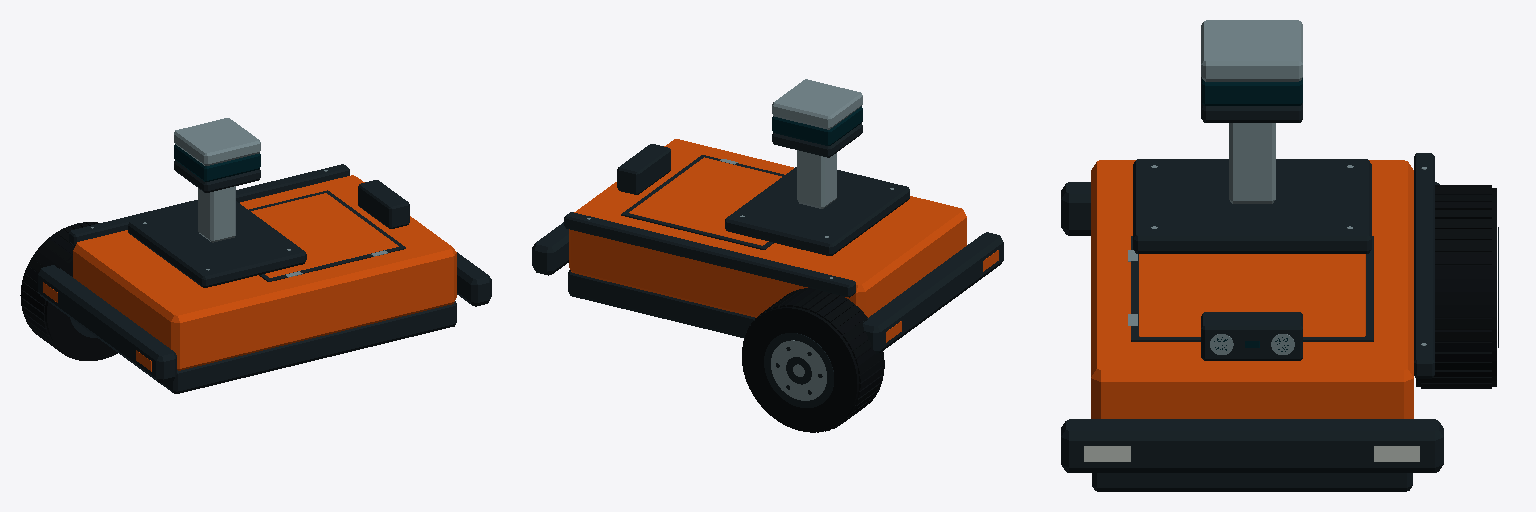
URDF robot description (mineguard):
<?xml version='1.0' encoding='utf-8'?>
<robot name="mineguard">
  <material name="amber">
    <color rgba="0.93 .48 .06 1" />
  </material>
  <material name="graphite">
    <color rgba=".10 .13 .16 1" />
  </material>
  <material name="silver">
    <color rgba=".55 .58 .6 1" />
  </material>
  <link name="base_footprint" />
  <joint name="footprint_fixed" type="fixed">
    <parent link="base_footprint" />
    <child link="base_link" />
    <origin xyz="0 0 .18" />
  </joint>
  <link name="base_link">
    <inertial>
      <origin xyz="0 0 0" />
      <mass value="20" />
      <inertia ixx="0.283333" ixy="0" ixz="0" iyy="0.642667" iyz="0" izz="0.840667" />
    </inertial>
    <visual>
      <origin xyz="0 0 0" rpy="0 0 0" />
      <geometry>
        <mesh filename="package://mineguard_robot/meshes/base_link.dae" />
      </geometry>
    </visual>
    <collision name="base_link_collision">
      <origin xyz="0 0 0" />
      <geometry>
        <box size="0.6 0.38 0.16" />
      </geometry>
    </collision>
  </link>
  <link name="front_left_wheel">
    <inertial>
      <mass value="1.5" />
      <inertia ixx="0.00665" ixy="0" ixz="0" iyy="0.0108" iyz="0" izz="0.00665" />
    </inertial>
    <visual>
      <origin xyz="0 0 0" rpy="0 0 0" />
      <geometry>
        <mesh filename="package://mineguard_robot/meshes/front_left_wheel.dae" />
      </geometry>
    </visual>
    <collision name="front_left_wheel_collision">
      <origin rpy="1.57079632679 0 0" />
      <geometry>
        <cylinder radius=".12" length=".10" />
      </geometry>
    </collision>
  </link>
  <joint name="front_left_wheel_joint" type="continuous">
    <parent link="base_link" />
    <child link="front_left_wheel" />
    <origin xyz="0.23 0.24 -.06" />
    <axis xyz="0 1 0" />
    <limit effort="12" velocity="12" />
    <dynamics damping="0" friction="0" />
  </joint>
  <gazebo reference="front_left_wheel">
    <mu1>0.8</mu1>
    <mu2>0.8</mu2>
    <kp>500000</kp>
    <kd>20</kd>
    <minDepth>0.001</minDepth>
    <maxVel>0.1</maxVel>
  </gazebo>
  <link name="front_right_wheel">
    <inertial>
      <mass value="1.5" />
      <inertia ixx="0.00665" ixy="0" ixz="0" iyy="0.0108" iyz="0" izz="0.00665" />
    </inertial>
    <visual>
      <origin xyz="0 0 0" rpy="0 0 0" />
      <geometry>
        <mesh filename="package://mineguard_robot/meshes/front_right_wheel.dae" />
      </geometry>
    </visual>
    <collision name="front_right_wheel_collision">
      <origin rpy="1.57079632679 0 0" />
      <geometry>
        <cylinder radius=".12" length=".10" />
      </geometry>
    </collision>
  </link>
  <joint name="front_right_wheel_joint" type="continuous">
    <parent link="base_link" />
    <child link="front_right_wheel" />
    <origin xyz="0.23 -0.24 -.06" />
    <axis xyz="0 1 0" />
    <limit effort="12" velocity="12" />
    <dynamics damping="0" friction="0" />
  </joint>
  <gazebo reference="front_right_wheel">
    <mu1>0.8</mu1>
    <mu2>0.8</mu2>
    <kp>500000</kp>
    <kd>20</kd>
    <minDepth>0.001</minDepth>
    <maxVel>0.1</maxVel>
  </gazebo>
  <link name="rear_left_wheel">
    <inertial>
      <mass value="1.5" />
      <inertia ixx="0.00665" ixy="0" ixz="0" iyy="0.0108" iyz="0" izz="0.00665" />
    </inertial>
    <visual>
      <origin xyz="0 0 0" rpy="0 0 0" />
      <geometry>
        <mesh filename="package://mineguard_robot/meshes/rear_left_wheel.dae" />
      </geometry>
    </visual>
    <collision name="rear_left_wheel_collision">
      <origin rpy="1.57079632679 0 0" />
      <geometry>
        <cylinder radius=".12" length=".10" />
      </geometry>
    </collision>
  </link>
  <joint name="rear_left_wheel_joint" type="continuous">
    <parent link="base_link" />
    <child link="rear_left_wheel" />
    <origin xyz="-0.23 0.24 -.06" />
    <axis xyz="0 1 0" />
    <limit effort="12" velocity="12" />
    <dynamics damping="0" friction="0" />
  </joint>
  <gazebo reference="rear_left_wheel">
    <mu1>0.8</mu1>
    <mu2>0.8</mu2>
    <kp>500000</kp>
    <kd>20</kd>
    <minDepth>0.001</minDepth>
    <maxVel>0.1</maxVel>
  </gazebo>
  <link name="rear_right_wheel">
    <inertial>
      <mass value="1.5" />
      <inertia ixx="0.00665" ixy="0" ixz="0" iyy="0.0108" iyz="0" izz="0.00665" />
    </inertial>
    <visual>
      <origin xyz="0 0 0" rpy="0 0 0" />
      <geometry>
        <mesh filename="package://mineguard_robot/meshes/rear_right_wheel.dae" />
      </geometry>
    </visual>
    <collision name="rear_right_wheel_collision">
      <origin rpy="1.57079632679 0 0" />
      <geometry>
        <cylinder radius=".12" length=".10" />
      </geometry>
    </collision>
  </link>
  <joint name="rear_right_wheel_joint" type="continuous">
    <parent link="base_link" />
    <child link="rear_right_wheel" />
    <origin xyz="-0.23 -0.24 -.06" />
    <axis xyz="0 1 0" />
    <limit effort="12" velocity="12" />
    <dynamics damping="0" friction="0" />
  </joint>
  <gazebo reference="rear_right_wheel">
    <mu1>0.8</mu1>
    <mu2>0.8</mu2>
    <kp>500000</kp>
    <kd>20</kd>
    <minDepth>0.001</minDepth>
    <maxVel>0.1</maxVel>
  </gazebo>
  <link name="sensor_deck">
    <inertial>
      <origin xyz="0 0 0" />
      <mass value="0.8" />
      <inertia ixx="0.00526833" ixy="0" ixz="0" iyy="0.00326833" iyz="0" izz="0.00845333" />
    </inertial>
    <visual>
      <origin xyz="0 0 0" rpy="0 0 0" />
      <geometry>
        <mesh filename="package://mineguard_robot/meshes/sensor_deck.dae" />
      </geometry>
    </visual>
    <collision name="sensor_deck_collision">
      <origin xyz="0 0 0" />
      <geometry>
        <box size="0.22 0.28 0.025" />
      </geometry>
    </collision>
  </link>
  <joint name="sensor_deck_fixed" type="fixed">
    <parent link="base_link" />
    <child link="sensor_deck" />
    <origin xyz="-0.1 0 0.105" />
  </joint>
  <link name="lidar_pedestal">
    <inertial>
      <origin xyz="0 0 0" />
      <mass value="0.4" />
      <inertia ixx="0.000580833" ixy="0" ixz="0" iyy="0.000580833" iyz="0" izz="0.000201667" />
    </inertial>
    <visual>
      <origin xyz="0 0 0" rpy="0 0 0" />
      <geometry>
        <mesh filename="package://mineguard_robot/meshes/lidar_pedestal.dae" />
      </geometry>
    </visual>
    <collision name="lidar_pedestal_collision">
      <origin xyz="0 0 0" />
      <geometry>
        <box size="0.055 0.055 0.12" />
      </geometry>
    </collision>
  </link>
  <joint name="lidar_pedestal_fixed" type="fixed">
    <parent link="base_link" />
    <child link="lidar_pedestal" />
    <origin xyz="-0.1 0 0.18" />
  </joint>
  <link name="lidar">
    <inertial>
      <origin xyz="0 0 0" />
      <mass value="0.6" />
      <inertia ixx="0.00104" ixy="0" ixz="0" iyy="0.00104" iyz="0" izz="0.00144" />
    </inertial>
    <visual>
      <origin xyz="0 0 0" rpy="0 0 0" />
      <geometry>
        <mesh filename="package://mineguard_robot/meshes/lidar.dae" />
      </geometry>
    </visual>
    <collision name="lidar_collision">
      <origin xyz="0 0 0" />
      <geometry>
        <box size="0.12 0.12 0.08" />
      </geometry>
    </collision>
  </link>
  <joint name="lidar_fixed" type="fixed">
    <parent link="base_link" />
    <child link="lidar" />
    <origin xyz="-0.1 0 0.28" />
  </joint>
  <link name="front_bumper">
    <inertial>
      <origin xyz="0 0 0" />
      <mass value="0.6" />
      <inertia ixx="0.0102763" ixy="0" ixz="0" iyy="0.0002525" iyz="0" izz="0.0102263" />
    </inertial>
    <visual>
      <origin xyz="0 0 0" rpy="0 0 0" />
      <geometry>
        <mesh filename="package://mineguard_robot/meshes/front_bumper.dae" />
      </geometry>
    </visual>
    <collision name="front_bumper_collision">
      <origin xyz="0 0 0" />
      <geometry>
        <box size="0.045 0.45 0.055" />
      </geometry>
    </collision>
  </link>
  <joint name="front_bumper_fixed" type="fixed">
    <parent link="base_link" />
    <child link="front_bumper" />
    <origin xyz="0.33 0 -0.005" />
  </joint>
  <link name="rear_bumper">
    <inertial>
      <origin xyz="0 0 0" />
      <mass value="0.6" />
      <inertia ixx="0.0102763" ixy="0" ixz="0" iyy="0.0002525" iyz="0" izz="0.0102263" />
    </inertial>
    <visual>
      <origin xyz="0 0 0" rpy="0 0 0" />
      <geometry>
        <mesh filename="package://mineguard_robot/meshes/rear_bumper.dae" />
      </geometry>
    </visual>
    <collision name="rear_bumper_collision">
      <origin xyz="0 0 0" />
      <geometry>
        <box size="0.045 0.45 0.055" />
      </geometry>
    </collision>
  </link>
  <joint name="rear_bumper_fixed" type="fixed">
    <parent link="base_link" />
    <child link="rear_bumper" />
    <origin xyz="-0.33 0 -0.005" />
  </joint>
  <link name="camera">
    <inertial>
      <origin xyz="0 0 0" />
      <mass value="0.5" />
      <inertia ixx="0.000684375" ixy="0" ixz="0" iyy="0.00016875" iyz="0" izz="0.000684375" />
    </inertial>
    <visual>
      <origin xyz="0 0 0" rpy="0 0 0" />
      <geometry>
        <mesh filename="package://mineguard_robot/meshes/camera.dae" />
      </geometry>
    </visual>
    <collision name="camera_collision">
      <origin xyz="0 0 0" />
      <geometry>
        <box size="0.045 0.12 0.045" />
      </geometry>
    </collision>
  </link>
  <joint name="camera_fixed" type="fixed">
    <parent link="base_link" />
    <child link="camera" />
    <origin xyz="0.25 0 0.1" />
  </joint>
  <link name="left_rail">
    <inertial>
      <origin xyz="0 0 0" />
      <mass value="0.25" />
      <inertia ixx="2.60417e-05" ixy="0" ixz="0" iyy="0.00702135" iyz="0" izz="0.00702135" />
    </inertial>
    <visual>
      <origin xyz="0 0 0" rpy="0 0 0" />
      <geometry>
        <mesh filename="package://mineguard_robot/meshes/left_rail.dae" />
      </geometry>
    </visual>
    <collision name="left_rail_collision">
      <origin xyz="0 0 0" />
      <geometry>
        <box size="0.58 0.025 0.025" />
      </geometry>
    </collision>
  </link>
  <joint name="left_rail_fixed" type="fixed">
    <parent link="base_link" />
    <child link="left_rail" />
    <origin xyz="0 0.202 0.075" />
  </joint>
  <link name="right_rail">
    <inertial>
      <origin xyz="0 0 0" />
      <mass value="0.25" />
      <inertia ixx="2.60417e-05" ixy="0" ixz="0" iyy="0.00702135" iyz="0" izz="0.00702135" />
    </inertial>
    <visual>
      <origin xyz="0 0 0" rpy="0 0 0" />
      <geometry>
        <mesh filename="package://mineguard_robot/meshes/right_rail.dae" />
      </geometry>
    </visual>
    <collision name="right_rail_collision">
      <origin xyz="0 0 0" />
      <geometry>
        <box size="0.58 0.025 0.025" />
      </geometry>
    </collision>
  </link>
  <joint name="right_rail_fixed" type="fixed">
    <parent link="base_link" />
    <child link="right_rail" />
    <origin xyz="0 -0.202 0.075" />
  </joint>
  <gazebo>
    <plugin name="mineguard_effort_drive" filename="libmineguard_course_drive.so" />
    <plugin name="wheel_states" filename="libgazebo_ros_joint_state_publisher.so">
      <robotNamespace>/mineguard</robotNamespace>
      <updateRate>30</updateRate>
      <jointName>front_left_wheel_joint,front_right_wheel_joint,rear_left_wheel_joint,rear_right_wheel_joint</jointName>
    </plugin>
  </gazebo>
  <gazebo reference="lidar">
    <sensor name="lidar_3d" type="ray">
      <update_rate>10</update_rate>
      <ray>
        <scan>
          <horizontal>
            <samples>720</samples>
            <resolution>1</resolution>
            <min_angle>-3.141592653589793</min_angle>
            <max_angle>3.1328660073298216</max_angle>
          </horizontal>
          <vertical>
            <samples>32</samples>
            <resolution>1</resolution>
            <min_angle>-0.7853981633974483</min_angle>
            <max_angle>0.7853981633974483</max_angle>
          </vertical>
        </scan>
        <range>
          <min>.30</min>
          <max>25</max>
          <resolution>.02</resolution>
        </range>
      </ray>
      <plugin name="mineguard_lio_lidar" filename="libmineguard_lio_lidar.so" />
    </sensor>
  </gazebo>
  <gazebo reference="camera">
    <sensor name="mapping_rgbd" type="depth">
      <pose>0 0 0 0 0 0</pose>
      <always_on>true</always_on>
      <update_rate>8</update_rate>
      <camera>
        <horizontal_fov>1.4</horizontal_fov>
        <image>
          <width>480</width>
          <height>320</height>
          <format>R8G8B8</format>
        </image>
        <clip>
          <near>.15</near>
          <far>12</far>
        </clip>
      </camera>
      <plugin name="mapping_rgbd_ros" filename="libgazebo_ros_openni_kinect.so">
        <robotNamespace>/mineguard</robotNamespace>
        <cameraName>front</cameraName>
        <alwaysOn>true</alwaysOn>
        <updateRate>0</updateRate>
        <imageTopicName>image_raw</imageTopicName>
        <cameraInfoTopicName>camera_info</cameraInfoTopicName>
        <depthImageTopicName>depth/image_raw</depthImageTopicName>
        <depthImageCameraInfoTopicName>depth/camera_info</depthImageCameraInfoTopicName>
        <pointCloudTopicName>depth/points</pointCloudTopicName>
        <frameName>/camera_optical</frameName>
        <pointCloudCutoff>.3</pointCloudCutoff>
        <pointCloudCutoffMax>10</pointCloudCutoffMax>
      </plugin>
    </sensor>
  </gazebo>
  <link name="camera_optical" />
  <joint name="camera_optical_fixed" type="fixed">
    <parent link="camera" />
    <child link="camera_optical" />
    <origin rpy="-1.57079632679 0 -1.57079632679" />
  </joint>
  <link name="lio_imu" />
  <joint name="lio_imu_fixed" type="fixed">
    <parent link="lidar" />
    <child link="lio_imu" />
    <origin xyz="0 0 0" />
  </joint>
  <gazebo reference="lio_imu">
    <sensor name="lio_imu_sensor" type="imu">
      <always_on>true</always_on>
      <update_rate>250</update_rate>
      <imu>
        <angular_velocity>
          <x>
            <noise type="gaussian">
              <mean>0</mean>
              <stddev>.001</stddev>
            </noise>
          </x>
          <y>
            <noise type="gaussian">
              <mean>0</mean>
              <stddev>.001</stddev>
            </noise>
          </y>
          <z>
            <noise type="gaussian">
              <mean>0</mean>
              <stddev>.001</stddev>
            </noise>
          </z>
        </angular_velocity>
        <linear_acceleration>
          <x>
            <noise type="gaussian">
              <mean>0</mean>
              <stddev>.02</stddev>
            </noise>
          </x>
          <y>
            <noise type="gaussian">
              <mean>0</mean>
              <stddev>.02</stddev>
            </noise>
          </y>
          <z>
            <noise type="gaussian">
              <mean>0</mean>
              <stddev>.02</stddev>
            </noise>
          </z>
        </linear_acceleration>
      </imu>
      <plugin name="mineguard_lio_imu" filename="libgazebo_ros_imu_sensor.so">
        <robotNamespace>/mineguard</robotNamespace>
        <topicName>imu/data</topicName>
        <frameName>lio_imu</frameName>
        <updateRateHZ>1000</updateRateHZ>
        <gaussianNoise>0</gaussianNoise>
        <initialOrientationAsReference>false</initialOrientationAsReference>
      </plugin>
    </sensor>
  </gazebo>
  <link name="lio_lidar" />
  <joint name="lio_lidar_frame" type="fixed">
    <parent link="lidar" />
    <child link="lio_lidar" />
  </joint>
</robot>

--- What the picture shows (computed from the rendered views, not written in the file) ---
The picture shows the robot from 3 angles, left to right: view 1: azimuth 30°, elevation 25°; view 2: azimuth 150°, elevation 25°; view 3: azimuth 270°, elevation 25°; orthographic projection.
Robot: mineguard — 17 links, 16 joints (4 continuous, 12 fixed); root link base_footprint; default pose: all joints at 0.
Links seen in each view (by area): view 1: base_link, sensor_deck, rear_bumper, lidar, rear_left_wheel, left_rail, lidar_pedestal, camera, front_bumper; view 2: base_link, rear_left_wheel, sensor_deck, rear_bumper, lidar, left_rail, lidar_pedestal, camera, front_bumper; view 3: base_link, sensor_deck, front_bumper, rear_left_wheel, lidar, camera, left_rail, lidar_pedestal, rear_bumper.
Boxes of the visible links, left/top/right/bottom form: base_link: left=73, top=175, right=456, bottom=393; sensor_deck: left=128, top=201, right=306, bottom=287; rear_bumper: left=38, top=265, right=176, bottom=382; lidar: left=174, top=118, right=260, bottom=192; rear_left_wheel: left=20, top=222, right=117, bottom=360; left_rail: left=69, top=164, right=349, bottom=245; lidar_pedestal: left=198, top=186, right=235, bottom=242; camera: left=358, top=180, right=409, bottom=228; front_bumper: left=457, top=252, right=491, bottom=306; base_link: left=568, top=139, right=966, bottom=338; rear_left_wheel: left=742, top=288, right=884, bottom=432; sensor_deck: left=725, top=167, right=909, bottom=255; rear_bumper: left=863, top=232, right=1003, bottom=354; lidar: left=772, top=79, right=862, bottom=157; left_rail: left=564, top=212, right=855, bottom=297; lidar_pedestal: left=797, top=150, right=836, bottom=208; camera: left=617, top=144, right=670, bottom=194; front_bumper: left=532, top=222, right=568, bottom=275; base_link: left=1091, top=160, right=1413, bottom=491; sensor_deck: left=1133, top=159, right=1371, bottom=253; front_bumper: left=1061, top=419, right=1443, bottom=472; rear_left_wheel: left=1416, top=185, right=1498, bottom=388; lidar: left=1201, top=20, right=1302, bottom=122; camera: left=1201, top=312, right=1302, bottom=360; left_rail: left=1414, top=153, right=1434, bottom=378; lidar_pedestal: left=1229, top=123, right=1275, bottom=203; rear_bumper: left=1061, top=182, right=1439, bottom=235.
Bounding box of the posed robot: 0.7047 × 0.515 × 0.5 m (x, y, z).
9 mesh visuals loaded from 13 distinct referenced files (9 Collada DAE); not drawn: 4 (reference not matched to a file when rendering).
